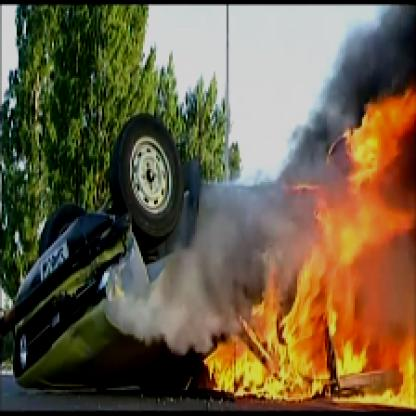Fire: (197, 46, 414, 408)
